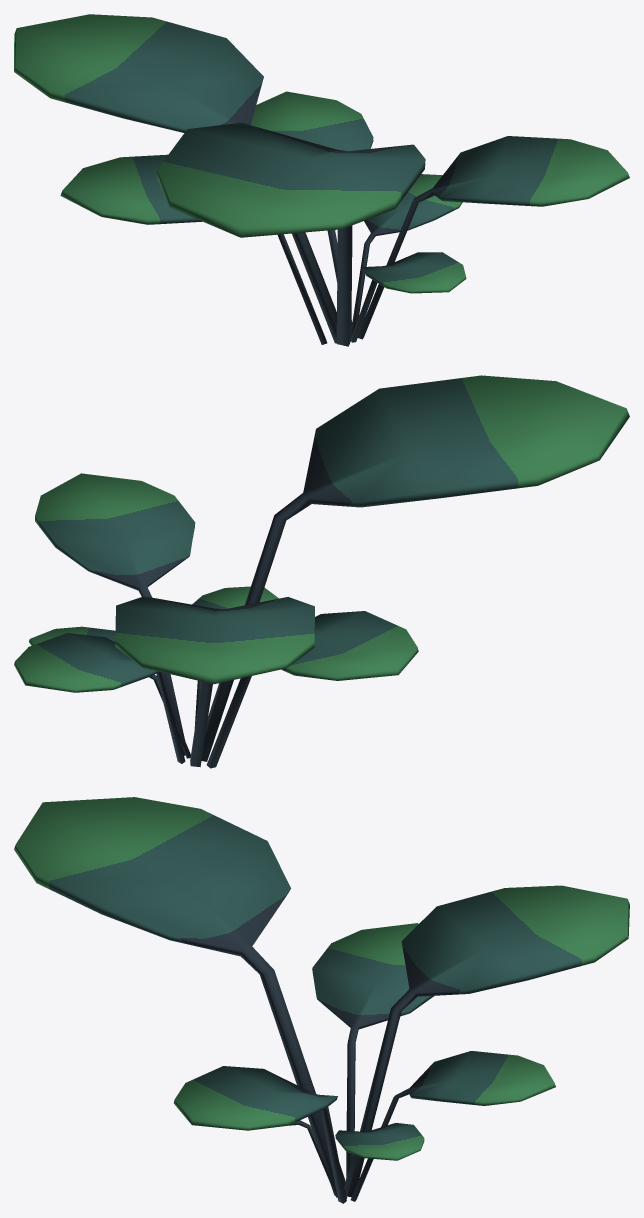
The model's file is Plant_2.fbx.
The picture shows the model from 3 angles, top to bottom: view 1: azimuth 30°, elevation 25°; view 2: azimuth 150°, elevation 25°; view 3: azimuth 270°, elevation 25°; orthographic projection. The views are drawn at different scales.
Parts seen in each view (by area): view 1: Flower01.001; view 2: Flower01.001; view 3: Flower01.001.
Part boxes in pixels (box(x1,y1,x2,y2)): Flower01.001: box(14, 14, 629, 346); Flower01.001: box(14, 375, 629, 768); Flower01.001: box(14, 797, 629, 1203).
Bounding box in the file's own units: 162 × 93.37 × 189.
1 material, 1 textured.
